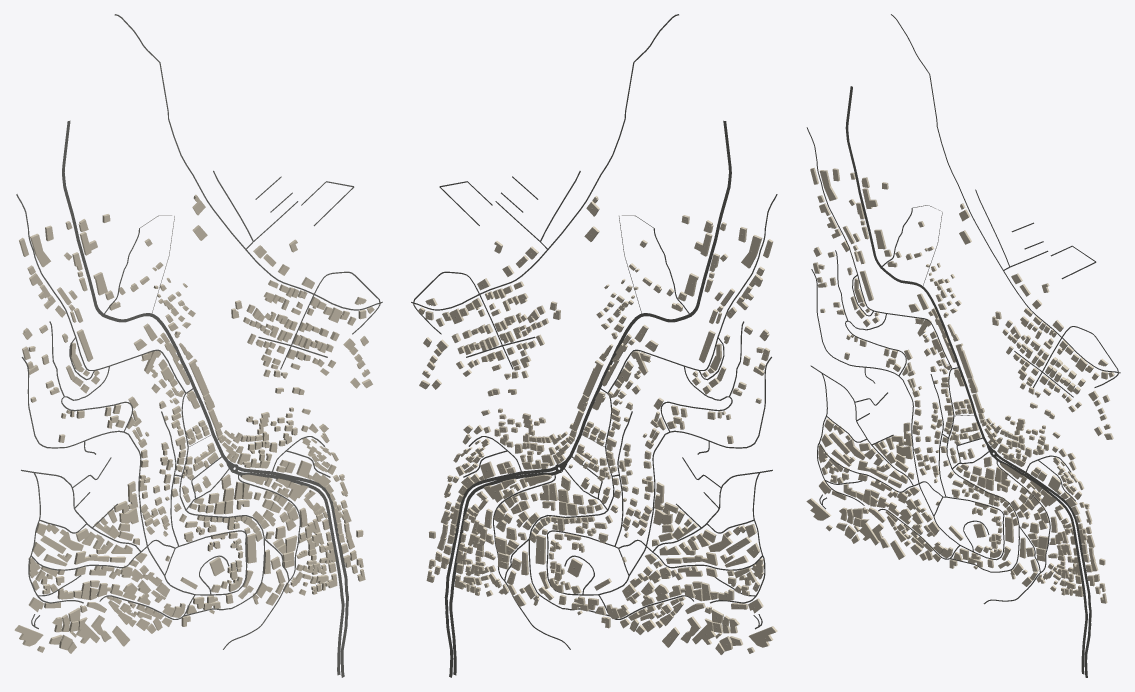
The model's file is salt_3572_3204.glb.
3 views of the same model, side by side, from view 1: azimuth 30°, elevation 25°; view 2: azimuth 150°, elevation 25°; view 3: azimuth 330°, elevation 25° (orthographic). The views are drawn at different scales.
Visible parts, largest first — view 1: Road شارع الامير حمزة, Road .004, Road .019, Road .026, Road .014, Road .030, Road .011; view 2: Road شارع الامير حمزة, Road .004, Road .019, Road .026, Road .011, Road .014, Road .030; view 3: Road شارع الامير حمزة, Road .004, Road .019, Road .026, Road .014, Road .011, Road .030.
Boxes of the visible parts, <box> form: Road شارع الامير حمزة: <box>62,120,228,462</box>; Road .004: <box>237,466,348,677</box>; Road .019: <box>239,472,344,675</box>; Road .026: <box>114,14,382,310</box>; Road .014: <box>179,387,264,616</box>; Road .030: <box>16,194,185,393</box>; Road .011: <box>27,366,164,575</box>; Road شارع الامير حمزة: <box>565,120,731,462</box>; Road .004: <box>444,466,556,677</box>; Road .019: <box>449,472,554,675</box>; Road .026: <box>411,14,678,310</box>; Road .011: <box>629,366,766,575</box>; Road .014: <box>528,387,614,616</box>; Road .030: <box>607,194,777,392</box>; Road شارع الامير حمزة: <box>845,86,988,444</box>; Road .004: <box>995,453,1091,677</box>; Road .019: <box>997,458,1087,674</box>; Road .026: <box>891,14,1120,373</box>; Road .014: <box>946,367,1019,572</box>; Road .011: <box>816,279,933,515</box>; Road .030: <box>806,127,951,368</box>.
Size of the model in its own units: 996 by 1866 by 13.2.
